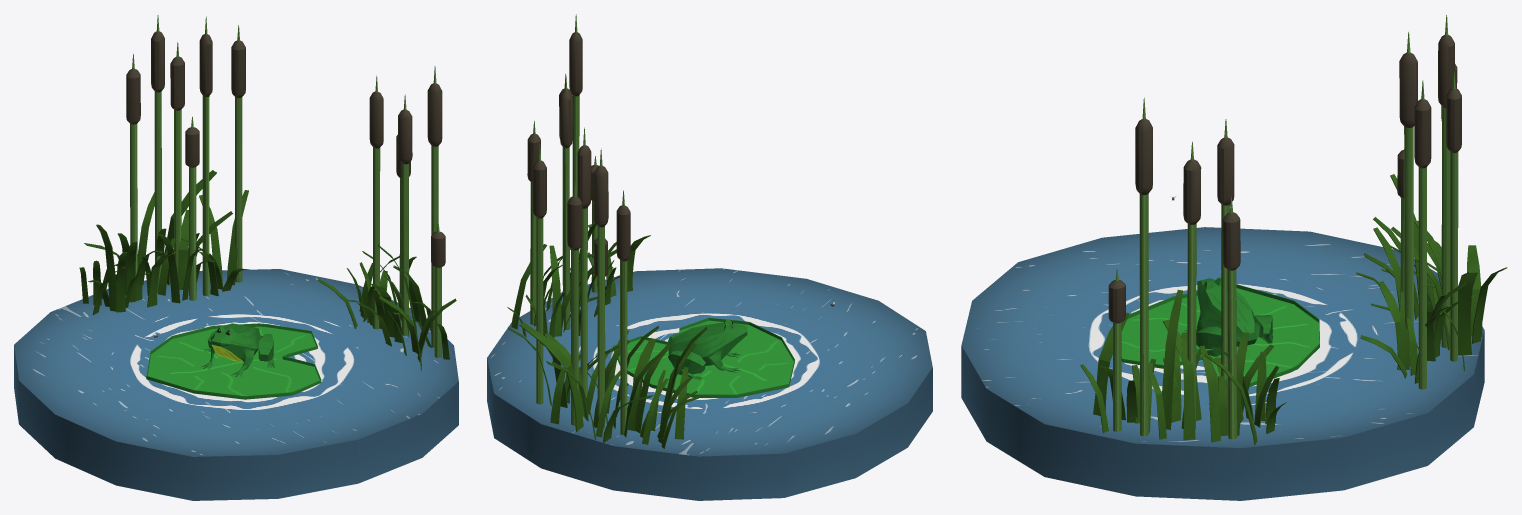
The model's file is pond.glb.
3 renders of one model, left to right at view 1: azimuth 30°, elevation 25°; view 2: azimuth 150°, elevation 25°; view 3: azimuth 270°, elevation 25°, orthographic. The views are drawn at different scales.
Visible parts, largest first — view 1: wo-a _0, Typha.003_5, grass.035_1, lILLYwater_2, FROG_3; view 2: wo-a _0, Typha.003_5, grass.035_1, lILLYwater_2, FROG_3; view 3: wo-a _0, grass.035_1, Typha.003_5, lILLYwater_2, FROG_3.
Boxes of the visible parts, x1,y1,x2,y2 form: wo-a _0: [14, 269, 458, 500]; Typha.003_5: [79, 15, 249, 314]; grass.035_1: [317, 66, 456, 370]; lILLYwater_2: [146, 323, 321, 399]; FROG_3: [201, 323, 274, 376]; wo-a _0: [487, 268, 932, 500]; Typha.003_5: [508, 127, 707, 448]; grass.035_1: [507, 14, 650, 337]; lILLYwater_2: [612, 317, 794, 397]; FROG_3: [668, 319, 747, 380]; wo-a _0: [961, 227, 1484, 500]; grass.035_1: [1080, 97, 1286, 444]; Typha.003_5: [1356, 15, 1507, 389]; lILLYwater_2: [1121, 284, 1319, 386]; FROG_3: [1184, 277, 1273, 356].
Bounding box in the file's own units: 2.12 × 1.75 × 2.22.
6 materials, 6 textured.
